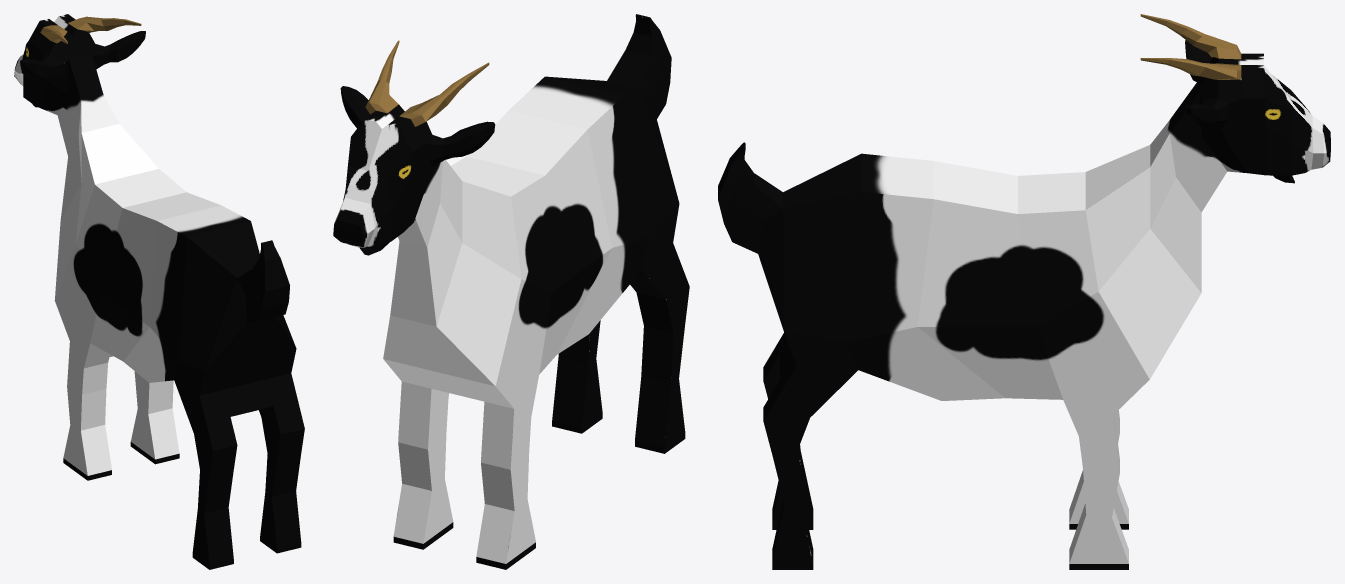
File: GoatCookiesAndCream.fbx
The picture shows the model from 3 angles, left to right: view 1: azimuth 30°, elevation 25°; view 2: azimuth 150°, elevation 25°; view 3: azimuth 270°, elevation 25°; orthographic projection. The views are drawn at different scales.
Parts seen in each view (by area): view 1: GoatCookiesAndCream; view 2: GoatCookiesAndCream; view 3: GoatCookiesAndCream.
Boxes of the visible parts, x1,y1,x2,y2 form: GoatCookiesAndCream: (14,14,304,569); GoatCookiesAndCream: (333,14,689,569); GoatCookiesAndCream: (718,14,1330,569).
Size of the model in its own units: 272 by 864 by 948.
1 material, 1 textured.
